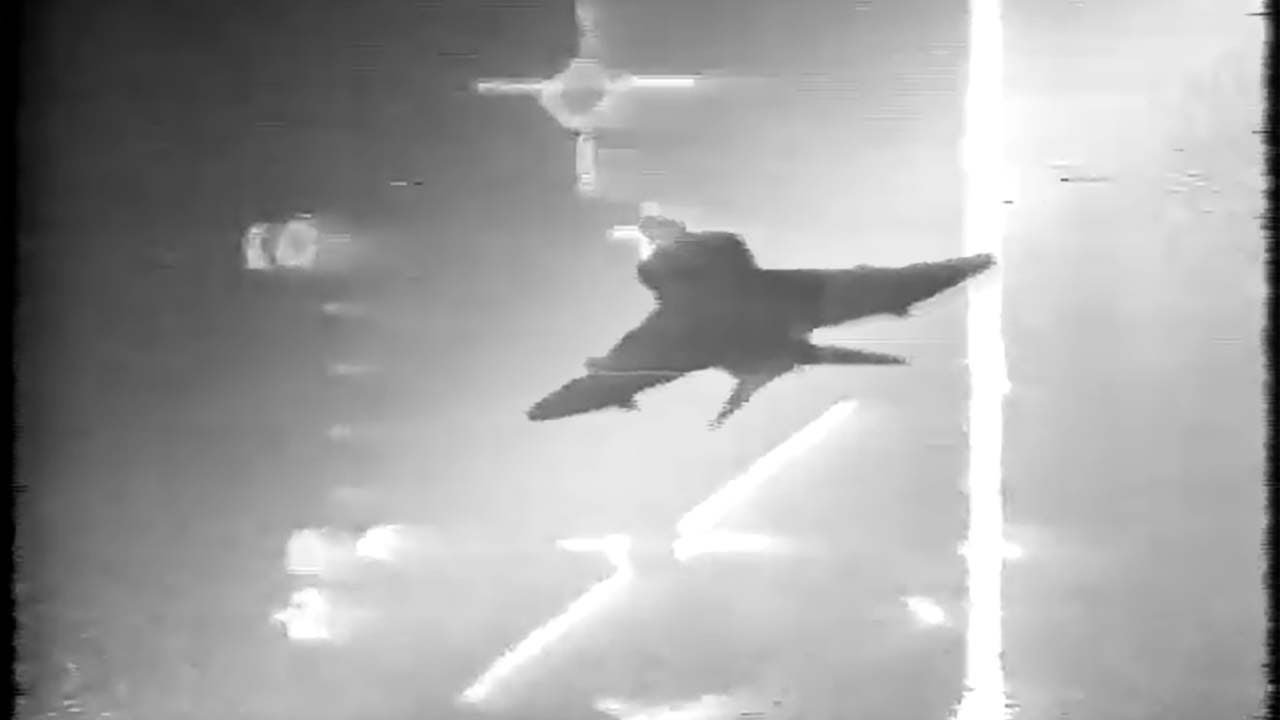F4: (519, 214, 997, 431)
